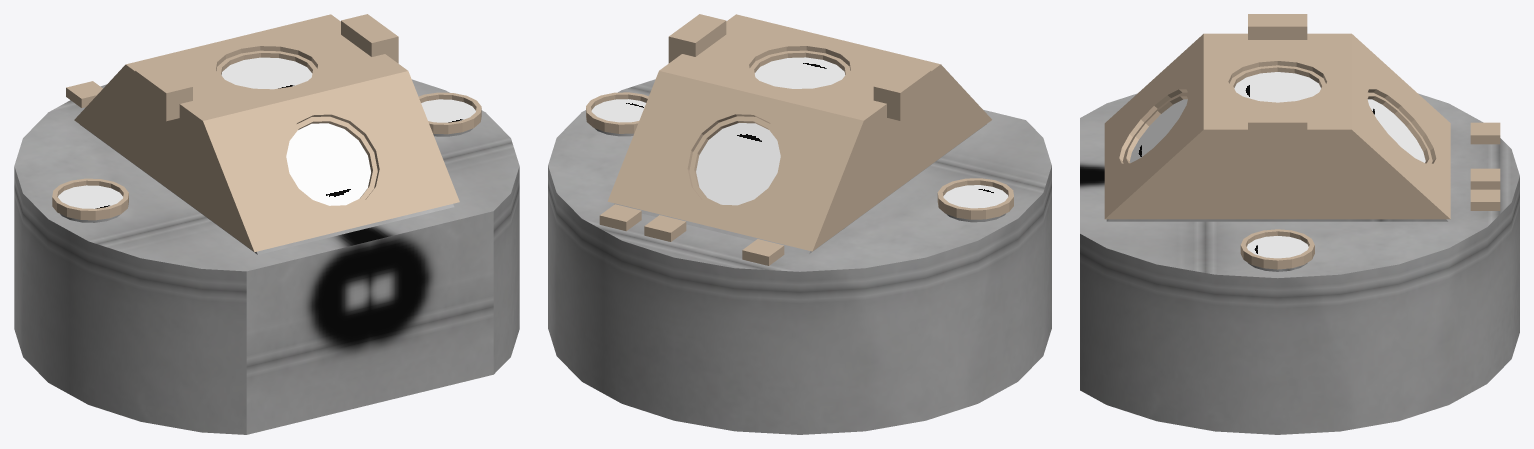
Rendered from nashira_cupola_s1_1_interior.obj.
3 renders of one model, left to right at view 1: azimuth 30°, elevation 25°; view 2: azimuth 150°, elevation 25°; view 3: azimuth 270°, elevation 25°, orthographic. The views are drawn at different scales.
Visible parts, largest first — view 1: i1, im1, iw1; view 2: i1, im1, iw1; view 3: i1, im1, iw1.
Part boxes in pixels (bbox=[...]): i1: bbox=[14, 79, 519, 434]; im1: bbox=[52, 14, 481, 252]; iw1: bbox=[58, 57, 475, 208]; i1: bbox=[548, 79, 1051, 434]; im1: bbox=[586, 14, 1013, 265]; iw1: bbox=[591, 57, 1008, 208]; i1: bbox=[1080, 93, 1519, 434]; im1: bbox=[1104, 14, 1500, 269]; iw1: bbox=[1129, 72, 1425, 258].
Size of the model in its own units: 1.22 by 0.75 by 1.11.
